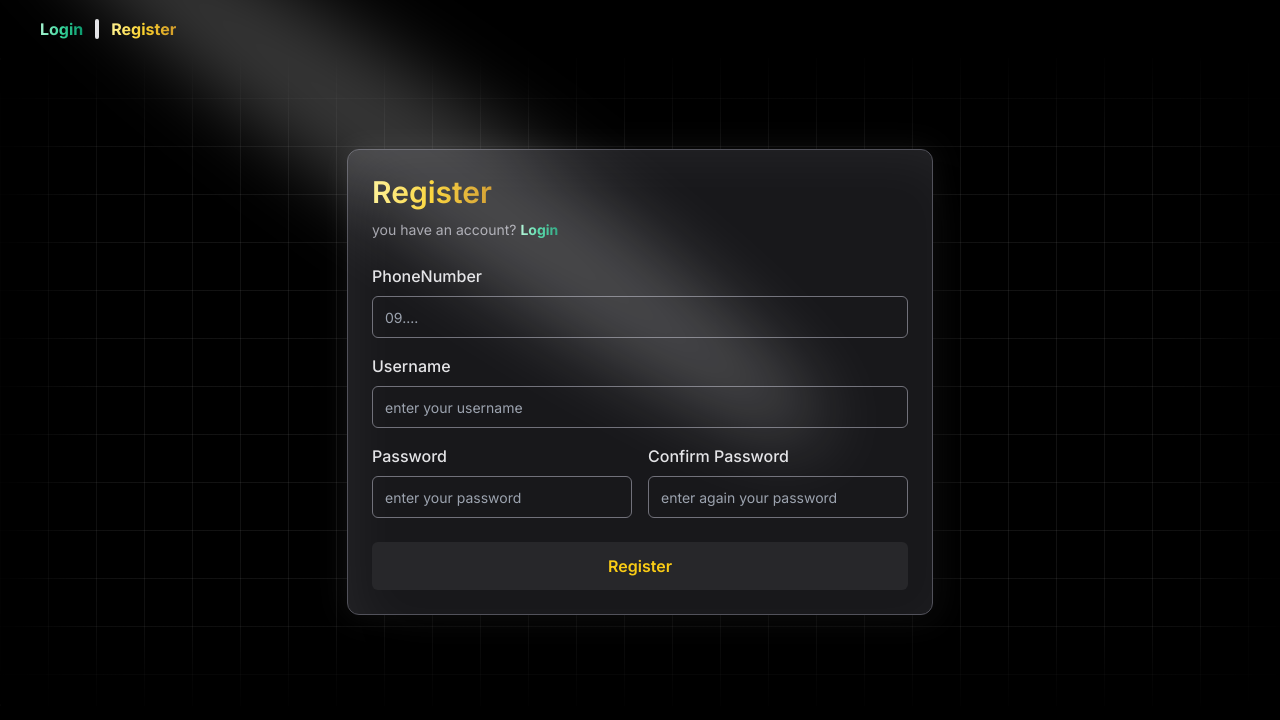
it: Register Test in UI › Empty fields
Step 1. Click the button with test id "register-btn" → (640, 566), box [372,542,908,590]
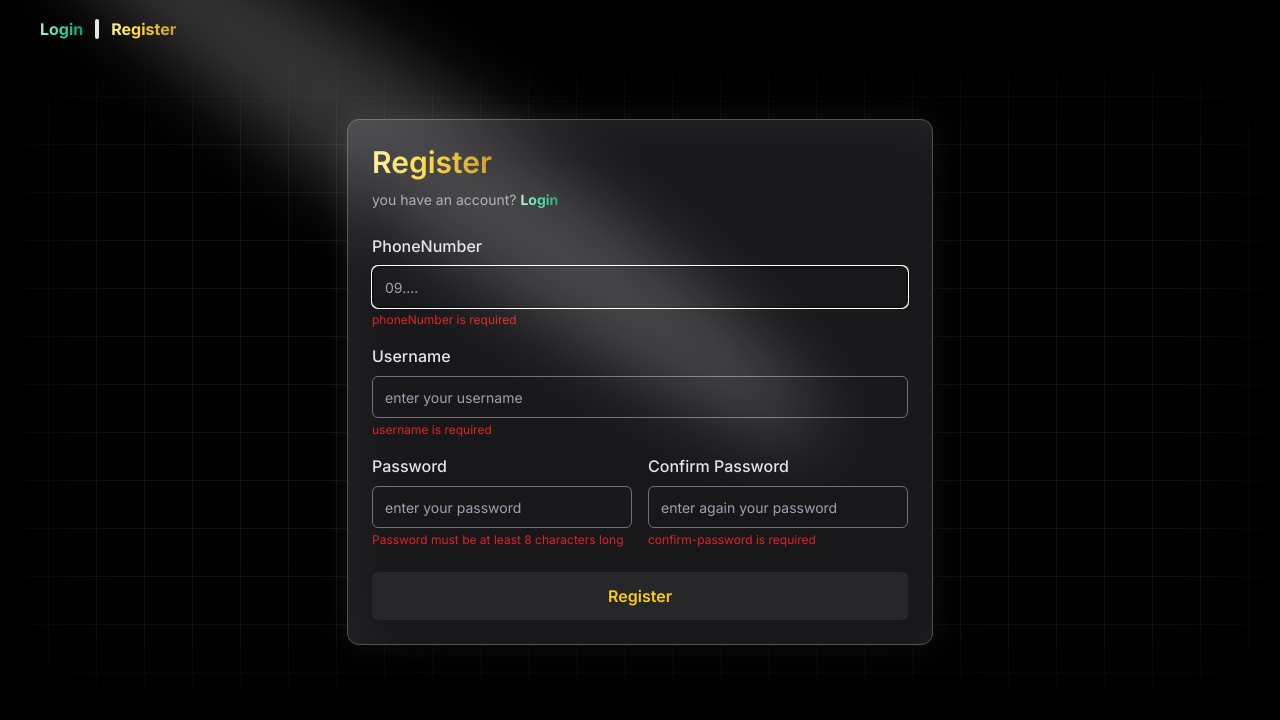
Result: the text "username is required" is shown at [372,422,492,437]
Result: the text "phoneNumber is required" is shown at [372,312,517,327]
Result: the text "Password must be at least 8 characters long" is shown at [372,532,632,548]
